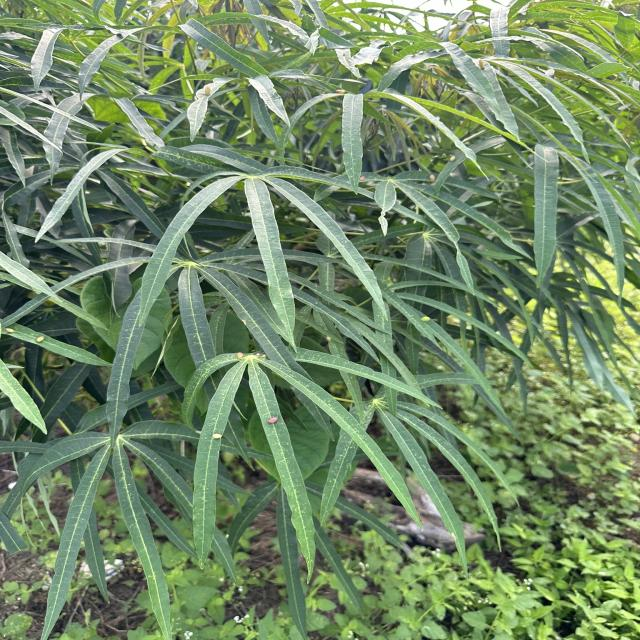Maleza: (507, 528, 640, 640)
Mosca: (262, 403, 297, 440), (230, 342, 272, 371), (468, 47, 499, 80), (202, 427, 241, 453), (2, 315, 23, 344), (413, 304, 441, 325), (33, 330, 52, 348)
